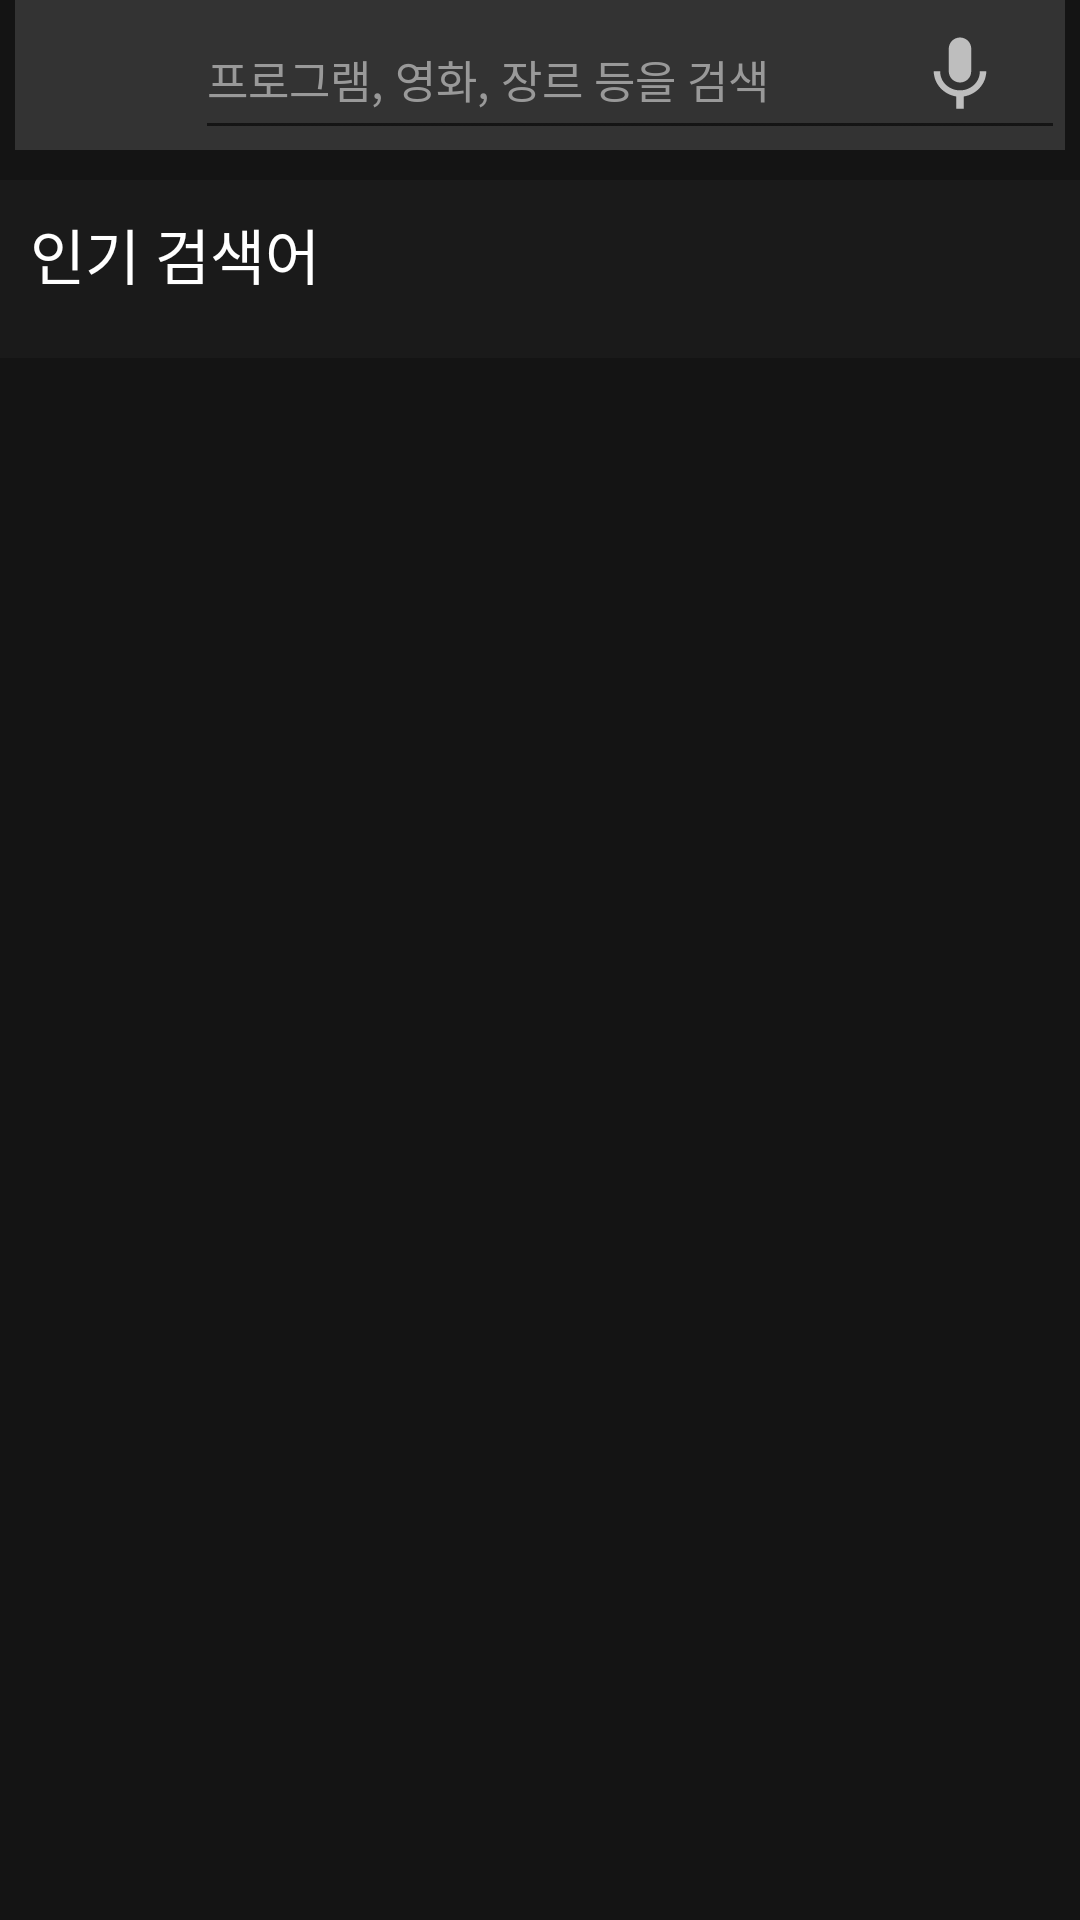

Where to tap for icons on this 1080*1920 app screen, as point (x, y):
mic: point (960, 73)
